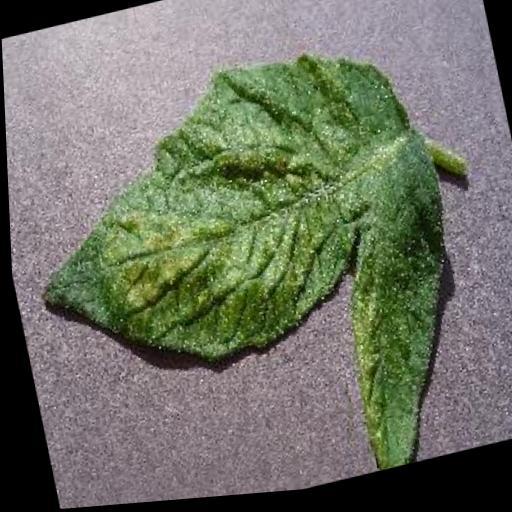Spider Mites: (4, 29, 484, 512)
